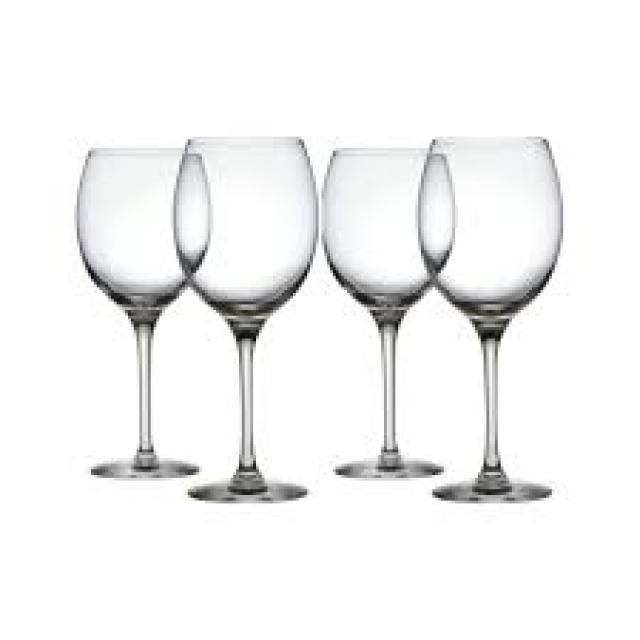glass: (171, 125, 313, 495), (418, 134, 558, 498), (316, 145, 452, 475), (74, 145, 208, 472)
